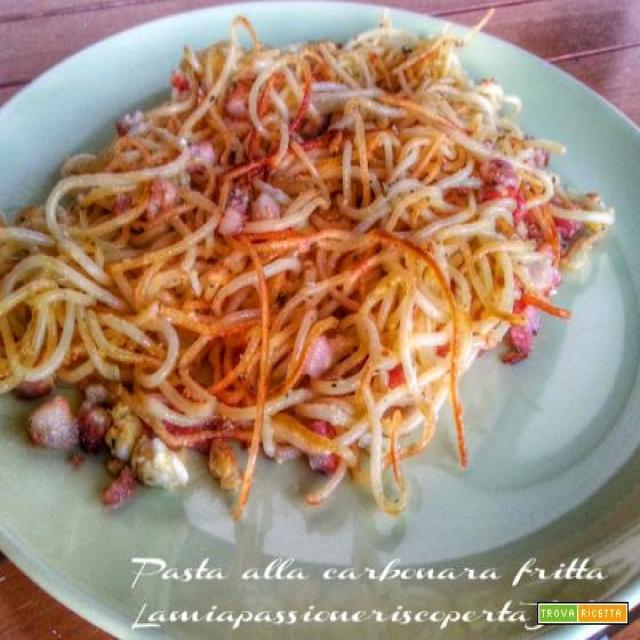Pasta with carbonara sauce: (14, 4, 618, 502)
